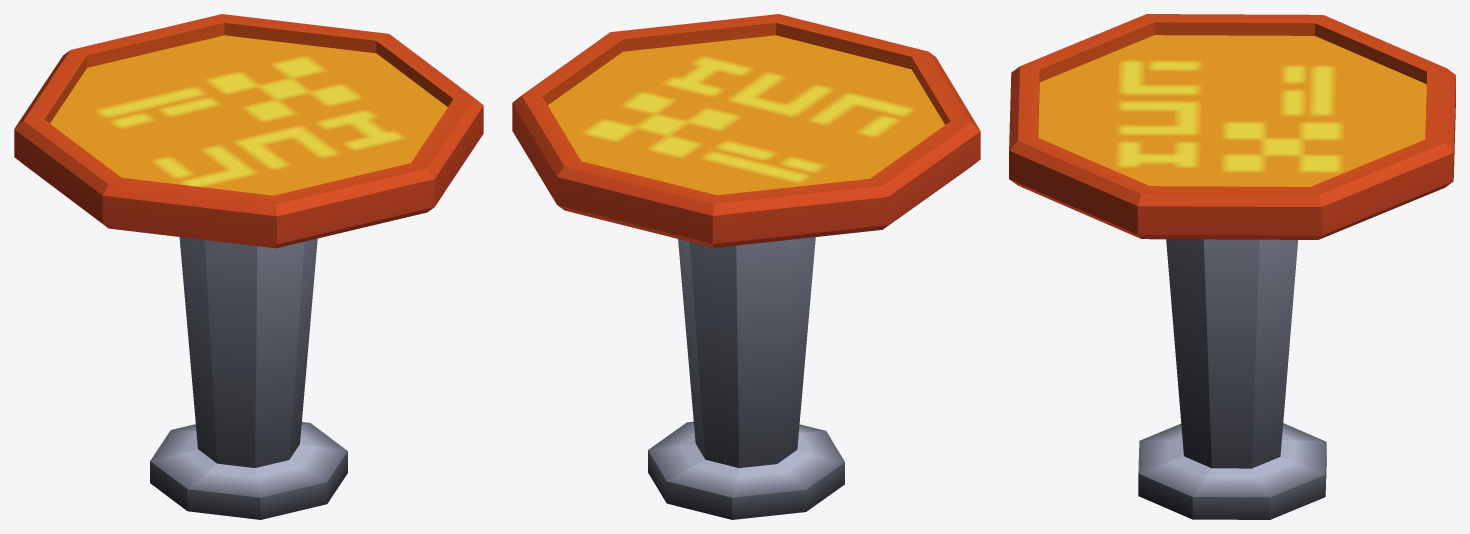
File: MiniTable.fbx
3 views of the same model, side by side, from view 1: azimuth 30°, elevation 25°; view 2: azimuth 150°, elevation 25°; view 3: azimuth 270°, elevation 25° (orthographic).
Visible parts, largest first — view 1: Окружность.006; view 2: Окружность.006; view 3: Окружность.006.
Boxes of the visible parts, x1,y1,x2,y2 form: Окружность.006: (14, 14, 483, 519); Окружность.006: (512, 14, 980, 519); Окружность.006: (1009, 14, 1455, 519).
Size of the model in its own units: 99.96 by 92.69 by 99.96.
